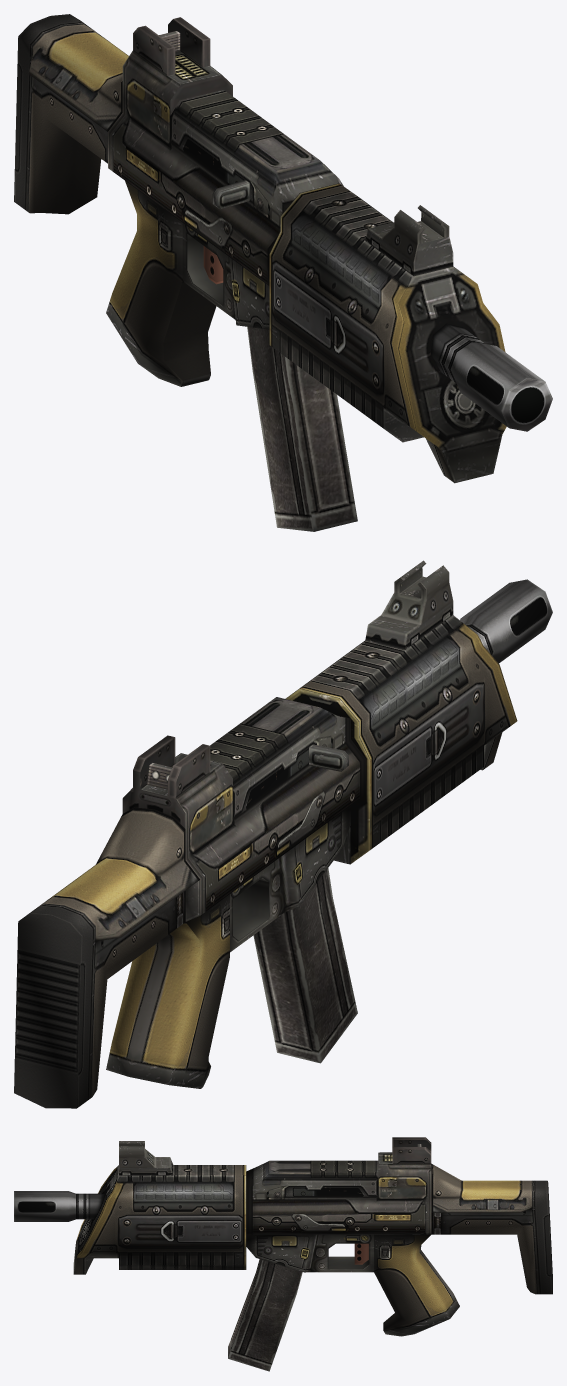
The model's file is w_smg02.FBX.
3 views of the same model, one above another, from view 1: azimuth 30°, elevation 25°; view 2: azimuth 150°, elevation 25°; view 3: azimuth 270°, elevation 25° (orthographic). The views are drawn at different scales.
Visible parts, largest first — view 1: w_smg02mesh; view 2: w_smg02mesh; view 3: w_smg02mesh.
Part boxes in pixels (x1,y1,x2,y2): w_smg02mesh: (14,14,552,531); w_smg02mesh: (14,560,552,1108); w_smg02mesh: (14,1137,552,1371).
Size of the model in its own units: 12.47 by 40.65 by 89.22.
1 material, 1 textured.
